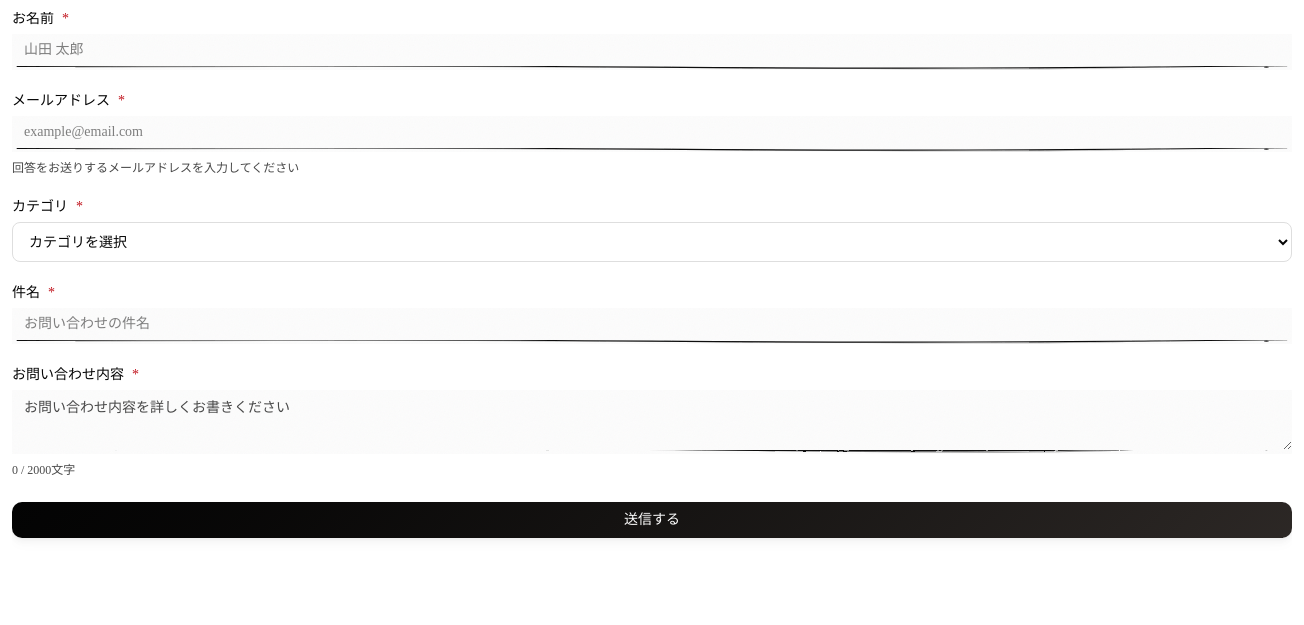
Test case: ContactForm › エラー応答 › Server Action が throw した場合、MSG_CONTACT_SEND_FAILED を表示する
In the field labelled "お名前 *": (652, 52) [12,34,1292,70], type "山田太郎"
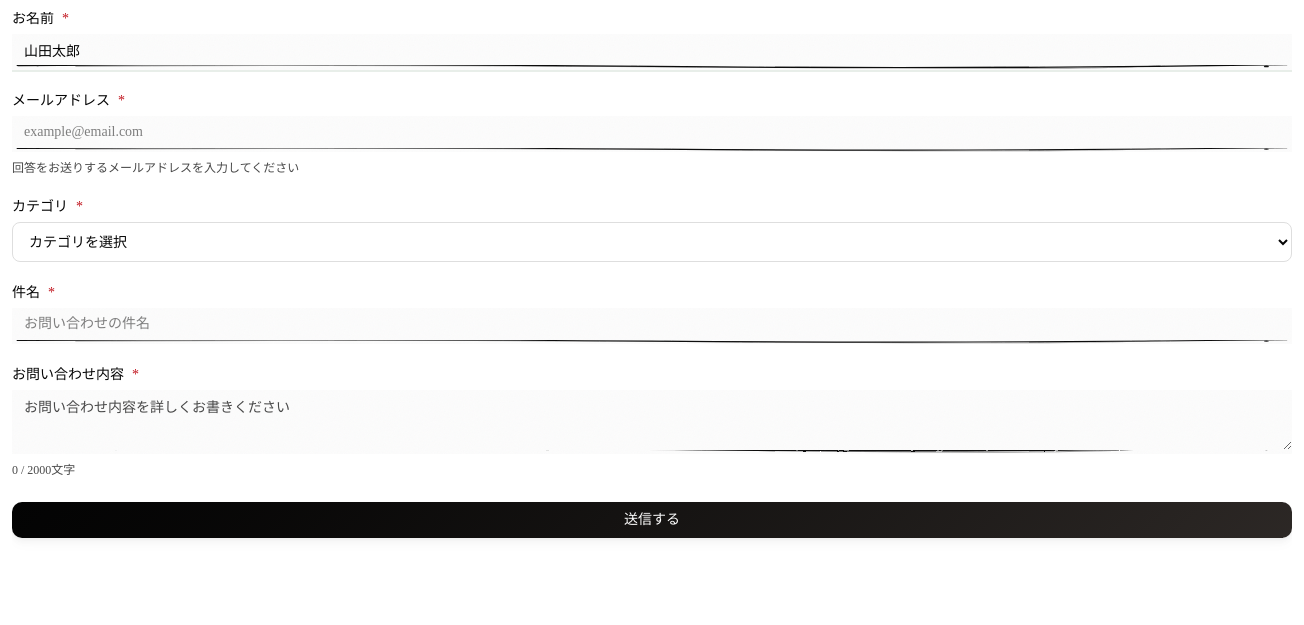
In the field labelled "メールアドレス *": (652, 134) [12,116,1292,152], type "test@example.com"
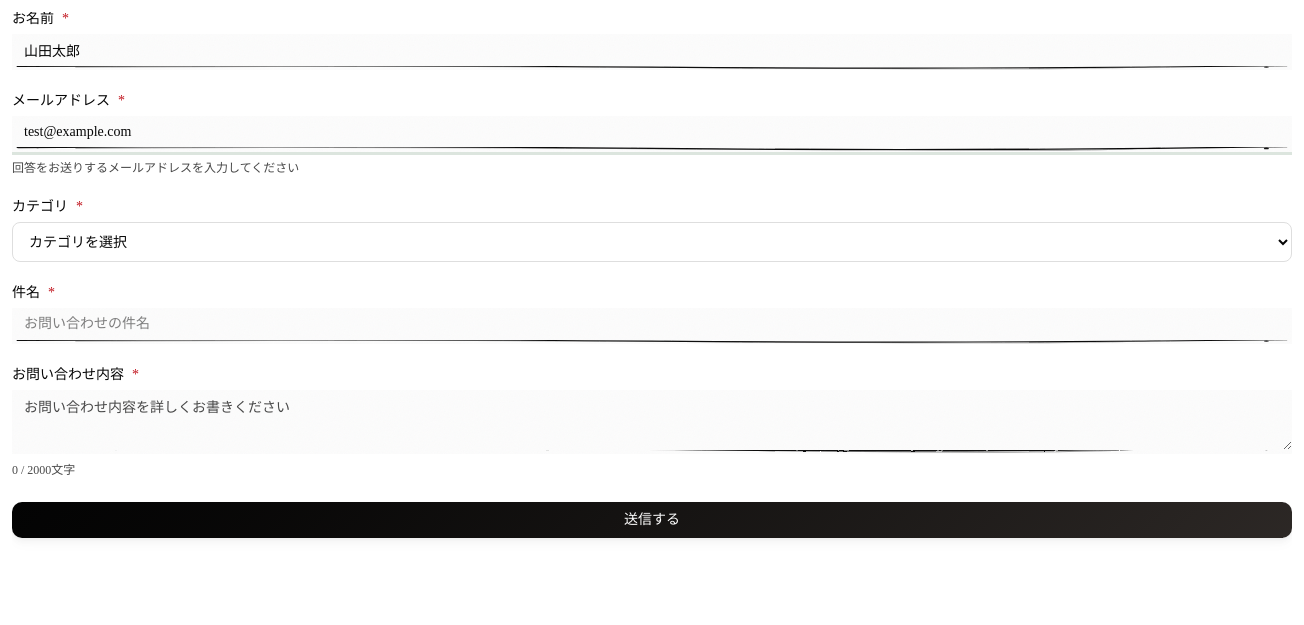
Select "一般的なお問い合わせ" in the dropdown labelled "カテゴリ *": (652, 242) [12,222,1292,262]
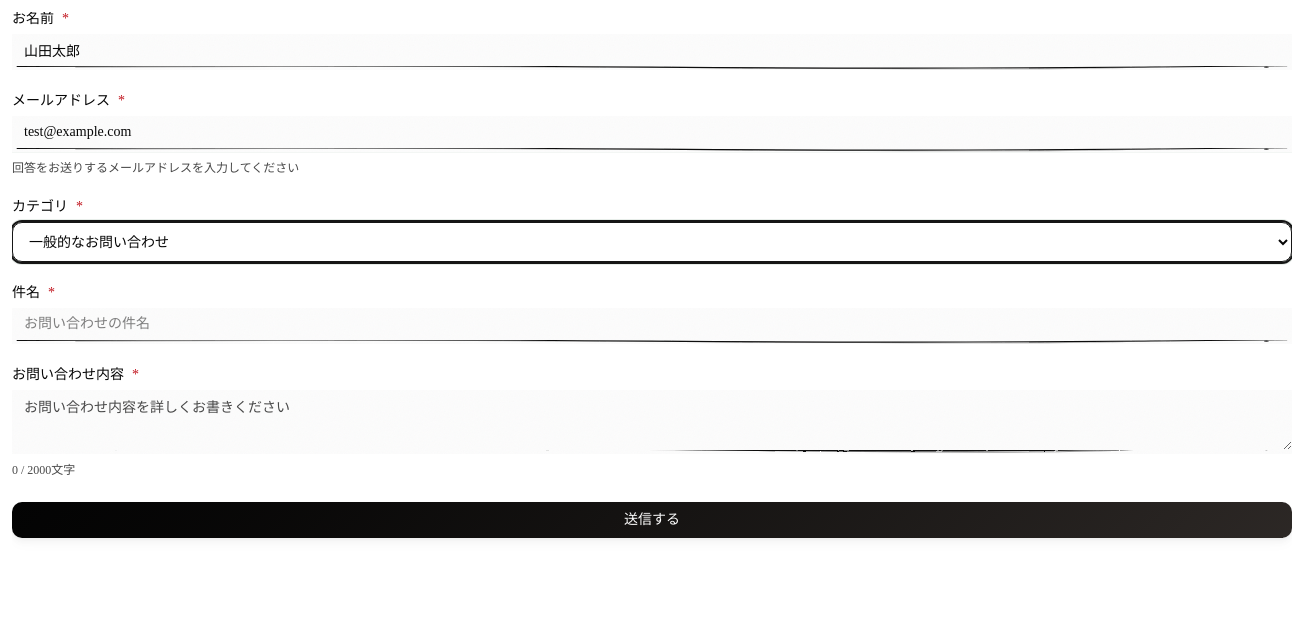
In the field labelled "件名 *": (652, 326) [12,308,1292,344], type "テスト件名"
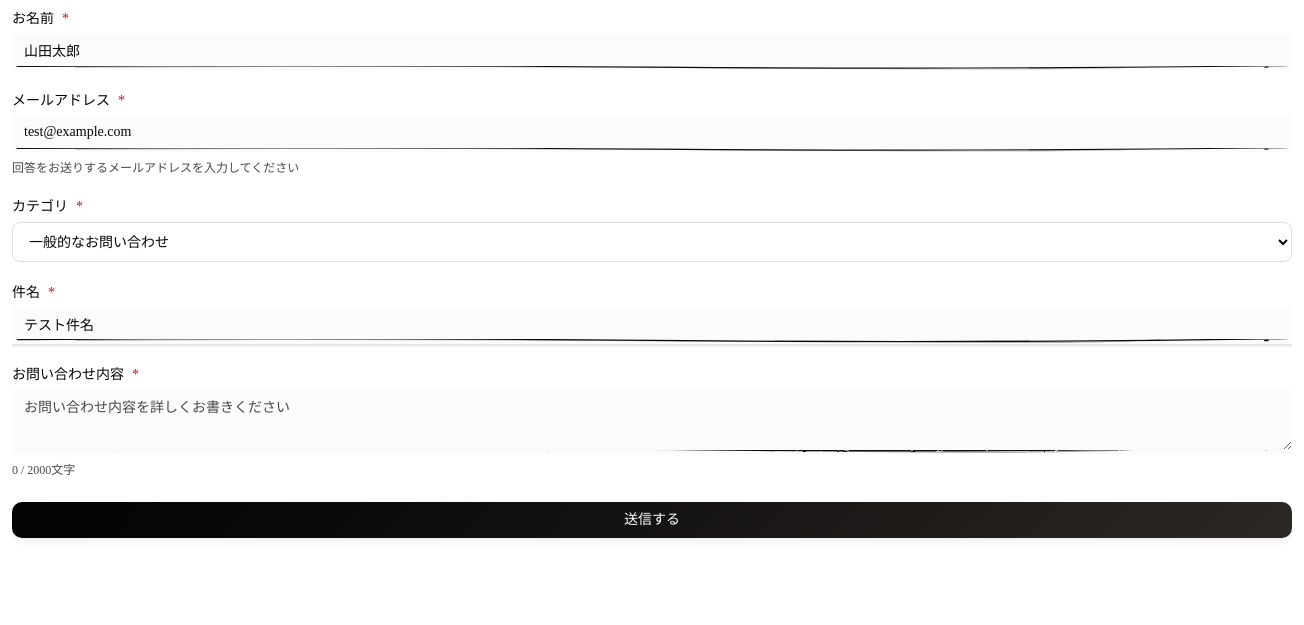
In the text box labelled "お問い合わせ内容 *": (652, 422) [12,390,1292,454], type "これはテストのお問い合わせ内容です。"
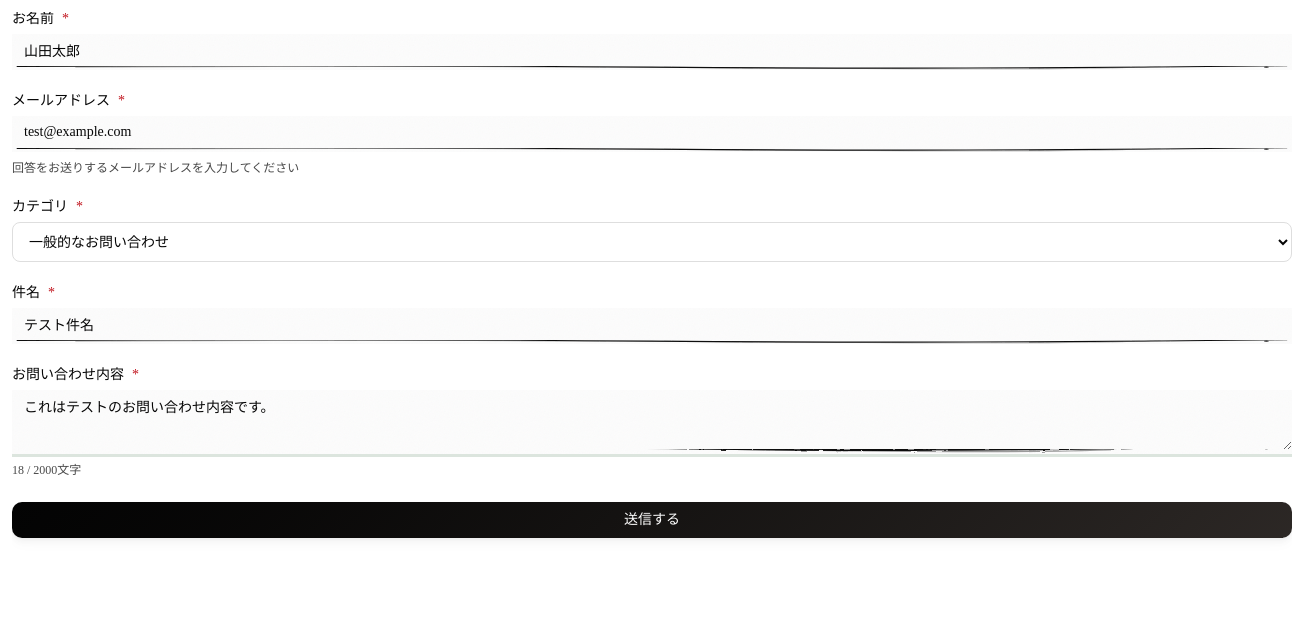
Click the button "送信する": (652, 520) [12,502,1292,538]
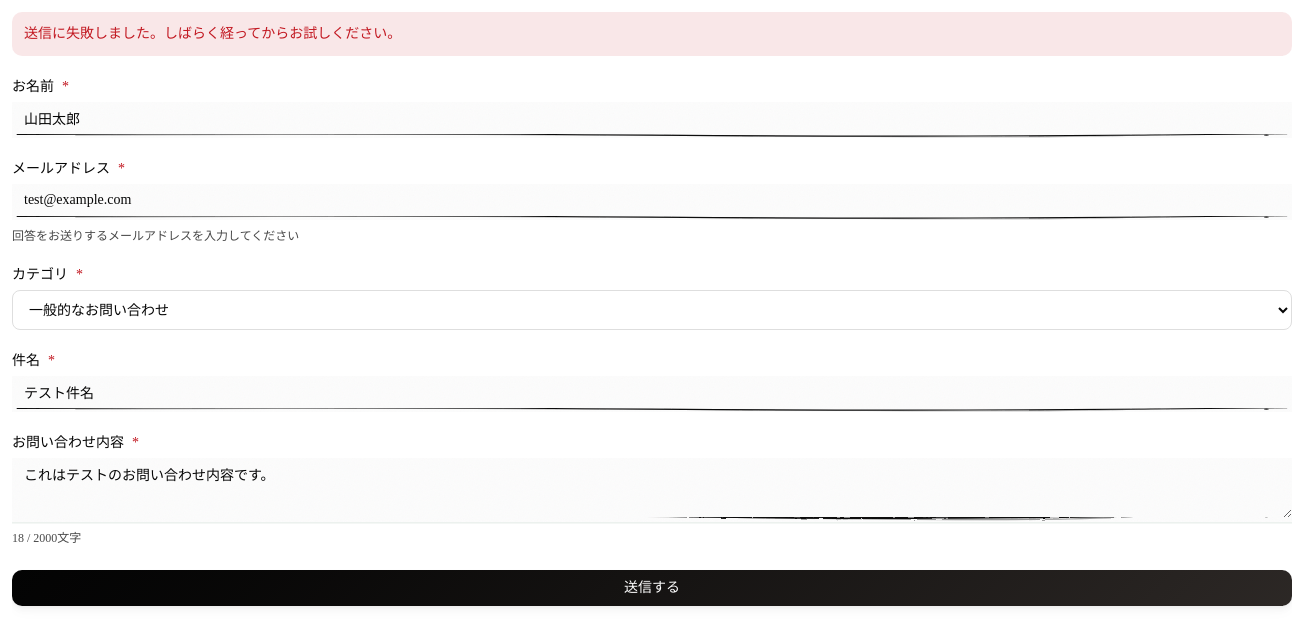
Check: the message "送信に失敗しました。しばらく経ってからお試しください。" is shown, box [12,12,1292,56]
